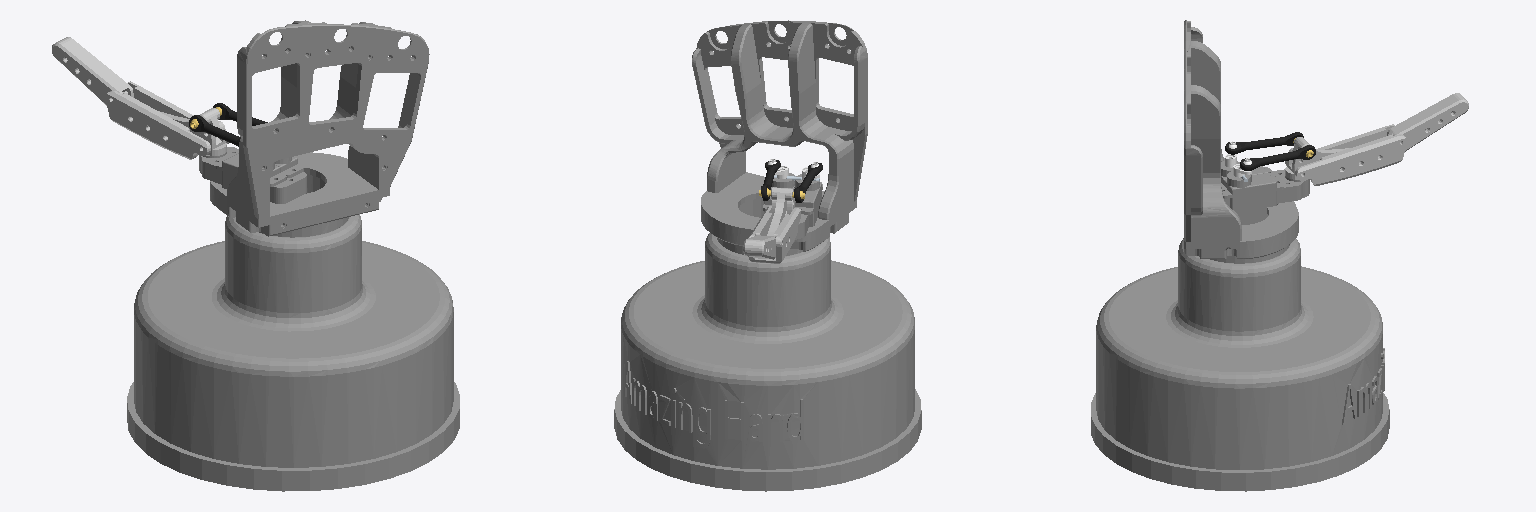
robot.urdf — Assem.SLDASM:
<?xml version="1.0" encoding="utf-8"?>
<!-- This URDF was automatically created by SolidWorks to URDF Exporter! Originally created by Stephen Brawner (brawner@gmail.com) 
     Commit Version: 1.6.0-4-g7f85cfe  Build Version: 1.6.7995.38578
     For more information, please see http://wiki.ros.org/sw_urdf_exporter -->
<robot
  name="Assem.SLDASM">
  <link
    name="base_link">
    <inertial>
      <origin
        xyz="-0.299473805099809 -1.03021940252174 0.0436095448483486"
        rpy="0 0 0" />
      <mass
        value="0.000264890102797812" />
      <inertia
        ixx="4.93000608072384E-07"
        ixy="3.95136244539639E-11"
        ixz="1.23734479882047E-10"
        iyy="5.10138574825556E-07"
        iyz="2.01408264267698E-09"
        izz="7.10918004022129E-07" />
    </inertial>
    <visual>
      <origin
        xyz="0 0 0"
        rpy="0 0 0" />
      <geometry>
        <mesh
          filename="package://Assem.SLDASM/meshes/base_link.STL" />
      </geometry>
      <material
        name="">
        <color
          rgba="0.647058823529412 0.647058823529412 0.647058823529412 1" />
      </material>
    </visual>
    <collision>
      <origin
        xyz="0 0 0"
        rpy="0 0 0" />
      <geometry>
        <mesh
          filename="package://Assem.SLDASM/meshes/base_link.STL" />
      </geometry>
    </collision>
  </link>
  <link
    name="rev1">
    <inertial>
      <origin
        xyz="1.02140518265514E-14 8.21565038222616E-15 -0.0117132506908853"
        rpy="0 0 0" />
      <mass
        value="9.01567166676995E-07" />
      <inertia
        ixx="2.98956667235181E-11"
        ixy="8.12018327301445E-23"
        ixz="8.39078673250069E-26"
        iyy="3.18763921783722E-11"
        iyz="-2.86739942424911E-25"
        izz="1.16989572197793E-11" />
    </inertial>
    <visual>
      <origin
        xyz="0 0 0"
        rpy="0 0 0" />
      <geometry>
        <mesh
          filename="package://Assem.SLDASM/meshes/rev1.STL" />
      </geometry>
      <material
        name="">
        <color
          rgba="0.8 0.8 0.8 1" />
      </material>
    </visual>
    <collision>
      <origin
        xyz="0 0 0"
        rpy="0 0 0" />
      <geometry>
        <mesh
          filename="package://Assem.SLDASM/meshes/rev1.STL" />
      </geometry>
    </collision>
  </link>
  <joint
    name="rev1"
    type="revolute">
    <origin
      xyz="-0.32335 -1.0003 0.091521"
      rpy="-3.1416 0 0.36089" />
    <parent
      link="base_link" />
    <child
      link="rev1" />
    <axis
      xyz="0 0 0" />
    <limit
      lower="0"
      upper="0"
      effort="0"
      velocity="0" />
  </joint>
  <link
    name="rev4">
    <inertial>
      <origin
        xyz="-4.99999991666611E-05 0.0202717386552188 0.00367131095180093"
        rpy="0 0 0" />
      <mass
        value="1.55937019543822E-06" />
      <inertia
        ixx="4.48994582996001E-10"
        ixy="-1.69039002988221E-20"
        ixz="-4.72429020340603E-21"
        iyy="4.75328685968633E-11"
        iyz="-1.11078422005558E-10"
        izz="4.08958550699171E-10" />
    </inertial>
    <visual>
      <origin
        xyz="0 0 0"
        rpy="0 0 0" />
      <geometry>
        <mesh
          filename="package://Assem.SLDASM/meshes/rev4.STL" />
      </geometry>
      <material
        name="">
        <color
          rgba="0.8 0.8 0.8 1" />
      </material>
    </visual>
    <collision>
      <origin
        xyz="0 0 0"
        rpy="0 0 0" />
      <geometry>
        <mesh
          filename="package://Assem.SLDASM/meshes/rev4.STL" />
      </geometry>
    </collision>
  </link>
  <joint
    name="rev4"
    type="revolute">
    <origin
      xyz="0 0 -0.0195"
      rpy="-0.12489 0 -3.1416" />
    <parent
      link="rev1" />
    <child
      link="rev4" />
    <axis
      xyz="0 0 0" />
    <limit
      lower="0"
      upper="0"
      effort="0"
      velocity="0" />
  </joint>
  <link
    name="rev6">
    <inertial>
      <origin
        xyz="-0.0275327537691696 0.103951988625078 -0.0178012843256605"
        rpy="0 0 0" />
      <mass
        value="3.56649884104221E-06" />
      <inertia
        ixx="5.18576476071431E-10"
        ixy="-1.74279394117136E-20"
        ixz="3.12946336418392E-21"
        iyy="7.03687110424854E-11"
        iyz="7.95960288090244E-11"
        izz="5.07648744356319E-10" />
    </inertial>
    <visual>
      <origin
        xyz="0 0 0"
        rpy="0 0 0" />
      <geometry>
        <mesh
          filename="package://Assem.SLDASM/meshes/rev6.STL" />
      </geometry>
      <material
        name="">
        <color
          rgba="0.8 0.8 0.8 1" />
      </material>
    </visual>
    <collision>
      <origin
        xyz="0 0 0"
        rpy="0 0 0" />
      <geometry>
        <mesh
          filename="package://Assem.SLDASM/meshes/rev6.STL" />
      </geometry>
    </collision>
  </link>
  <joint
    name="rev6"
    type="revolute">
    <origin
      xyz="0.027533 -0.032846 0.032692"
      rpy="-0.13362 0 0" />
    <parent
      link="rev4" />
    <child
      link="rev6" />
    <axis
      xyz="0 0 0" />
    <limit
      lower="0"
      upper="0"
      effort="0"
      velocity="0" />
  </joint>
  <link
    name="rev5">
    <inertial>
      <origin
        xyz="-4.99970333943667E-05 0.027095747792951 0.00319459785626131"
        rpy="0 0 0" />
      <mass
        value="6.95880846761462E-06" />
      <inertia
        ixx="1.44377728195501E-09"
        ixy="1.69680667087282E-16"
        ixz="5.03906068374767E-17"
        iyy="3.3029822726442E-10"
        iyz="3.12201862426203E-11"
        izz="1.53487846175049E-09" />
    </inertial>
    <visual>
      <origin
        xyz="0 0 0"
        rpy="0 0 0" />
      <geometry>
        <mesh
          filename="package://Assem.SLDASM/meshes/rev5.STL" />
      </geometry>
      <material
        name="">
        <color
          rgba="0.8 0.8 0.8 1" />
      </material>
    </visual>
    <collision>
      <origin
        xyz="0 0 0"
        rpy="0 0 0" />
      <geometry>
        <mesh
          filename="package://Assem.SLDASM/meshes/rev5.STL" />
      </geometry>
    </collision>
  </link>
  <joint
    name="rev5"
    type="revolute">
    <origin
      xyz="0 0 -0.0135"
      rpy="-0.12906 0 3.1416" />
    <parent
      link="rev1" />
    <child
      link="rev5" />
    <axis
      xyz="0 0 0" />
    <limit
      lower="0"
      upper="0"
      effort="0"
      velocity="0" />
  </joint>
  <link
    name="rev2">
    <inertial>
      <origin
        xyz="0.00215952472968417 0.00151211549413738 -0.00416811876256325"
        rpy="0 0 0" />
      <mass
        value="1.48459705980827E-07" />
      <inertia
        ixx="6.64492349805132E-13"
        ixy="-1.72913669703106E-13"
        ixz="6.52669975612066E-14"
        iyy="7.90363207673246E-13"
        iyz="4.57004436726837E-14"
        izz="1.03644045593312E-12" />
    </inertial>
    <visual>
      <origin
        xyz="0 0 0"
        rpy="0 0 0" />
      <geometry>
        <mesh
          filename="package://Assem.SLDASM/meshes/rev2.STL" />
      </geometry>
      <material
        name="">
        <color
          rgba="1 1 1 1" />
      </material>
    </visual>
    <collision>
      <origin
        xyz="0 0 0"
        rpy="0 0 0" />
      <geometry>
        <mesh
          filename="package://Assem.SLDASM/meshes/rev2.STL" />
      </geometry>
    </collision>
  </link>
  <joint
    name="rev2"
    type="revolute">
    <origin
      xyz="-0.30659 -1.0286 0.10917"
      rpy="-3.1416 0 1.5539" />
    <parent
      link="base_link" />
    <child
      link="rev2" />
    <axis
      xyz="0 0 0" />
    <limit
      lower="0"
      upper="0"
      effort="0"
      velocity="0" />
  </joint>
  <link
    name="ball1">
    <inertial>
      <origin
        xyz="0.00287012797629305 0.0198118955548476 0.00023317575277651"
        rpy="0 0 0" />
      <mass
        value="4.11495169264791E-07" />
      <inertia
        ixx="1.11963176460428E-11"
        ixy="-6.23376208857966E-13"
        ixz="1.63127880509559E-15"
        iyy="1.44015139319813E-12"
        iyz="2.4934692075138E-14"
        izz="1.12359214876911E-11" />
    </inertial>
    <visual>
      <origin
        xyz="0 0 0"
        rpy="0 0 0" />
      <geometry>
        <mesh
          filename="package://Assem.SLDASM/meshes/ball1.STL" />
      </geometry>
      <material
        name="">
        <color
          rgba="0.192156862745098 0.192156862745098 0.192156862745098 1" />
      </material>
    </visual>
    <collision>
      <origin
        xyz="0 0 0"
        rpy="0 0 0" />
      <geometry>
        <mesh
          filename="package://Assem.SLDASM/meshes/ball1.STL" />
      </geometry>
    </collision>
  </link>
  <joint
    name="ball1"
    type="revolute">
    <origin
      xyz="4.9577E-05 0.0029362 -0.0069"
      rpy="-3.1092 -0.20942 1.071" />
    <parent
      link="rev2" />
    <child
      link="ball1" />
    <axis
      xyz="0 0 0" />
    <limit
      lower="0"
      upper="0"
      effort="0"
      velocity="0" />
  </joint>
  <link
    name="ball3">
    <inertial>
      <origin
        xyz="-0.0173869935500136 0.00567692239340628 -0.0265999999999947"
        rpy="0 0 0" />
      <mass
        value="5.47122318133314E-08" />
      <inertia
        ixx="1.6232606031193E-13"
        ixy="6.31088724176809E-30"
        ixz="1.35999620060102E-26"
        iyy="1.6232606031193E-13"
        iyz="1.26154635962944E-26"
        izz="1.62708880327974E-13" />
    </inertial>
    <visual>
      <origin
        xyz="0 0 0"
        rpy="0 0 0" />
      <geometry>
        <mesh
          filename="package://Assem.SLDASM/meshes/ball3.STL" />
      </geometry>
      <material
        name="">
        <color
          rgba="0.956862745098039 0.835294117647059 0.470588235294118 1" />
      </material>
    </visual>
    <collision>
      <origin
        xyz="0 0 0"
        rpy="0 0 0" />
      <geometry>
        <mesh
          filename="package://Assem.SLDASM/meshes/ball3.STL" />
      </geometry>
    </collision>
  </link>
  <joint
    name="ball3"
    type="revolute">
    <origin
      xyz="0.034109 0.04124 -0.0099321"
      rpy="1.283 0.73685 1.2566" />
    <parent
      link="ball1" />
    <child
      link="ball3" />
    <axis
      xyz="0 0 0" />
    <limit
      lower="0"
      upper="0"
      effort="0"
      velocity="0" />
  </joint>
  <link
    name="rod">
    <inertial>
      <origin
        xyz="-0.0275327537729319 0.0386101998079315 -0.0266838319230719"
        rpy="0 0 0" />
      <mass
        value="7.85398163397449E-08" />
      <inertia
        ixx="3.92699081698728E-14"
        ixy="7.72068490184749E-23"
        ixz="1.64994603372841E-22"
        iyy="4.11025038844665E-12"
        iyz="-2.01948391736579E-28"
        izz="4.11025038844665E-12" />
    </inertial>
    <visual>
      <origin
        xyz="0 0 0"
        rpy="0 0 0" />
      <geometry>
        <mesh
          filename="package://Assem.SLDASM/meshes/rod.STL" />
      </geometry>
      <material
        name="">
        <color
          rgba="0.811764705882353 0.858823529411765 0.898039215686275 1" />
      </material>
    </visual>
    <collision>
      <origin
        xyz="0 0 0"
        rpy="0 0 0" />
      <geometry>
        <mesh
          filename="package://Assem.SLDASM/meshes/rod.STL" />
      </geometry>
    </collision>
  </link>
  <joint
    name="rod"
    type="fixed">
    <origin
      xyz="0.0084803 -0.033485 -0.0070672"
      rpy="1.9531 -1.5708 0" />
    <parent
      link="ball3" />
    <child
      link="rod" />
    <axis
      xyz="0 0 0" />
  </joint>
  <link
    name="rev3">
    <inertial>
      <origin
        xyz="-0.00215952472948366 0.00151211549443775 -0.00416811876256649"
        rpy="0 0 0" />
      <mass
        value="1.48459705980828E-07" />
      <inertia
        ixx="6.64492349852074E-13"
        ixy="1.72913669720197E-13"
        ixz="-6.52669975550009E-14"
        iyy="7.90363207626325E-13"
        iyz="4.57004436815349E-14"
        izz="1.03644045593314E-12" />
    </inertial>
    <visual>
      <origin
        xyz="0 0 0"
        rpy="0 0 0" />
      <geometry>
        <mesh
          filename="package://Assem.SLDASM/meshes/rev3.STL" />
      </geometry>
      <material
        name="">
        <color
          rgba="1 1 1 1" />
      </material>
    </visual>
    <collision>
      <origin
        xyz="0 0 0"
        rpy="0 0 0" />
      <geometry>
        <mesh
          filename="package://Assem.SLDASM/meshes/rev3.STL" />
      </geometry>
    </collision>
  </link>
  <joint
    name="rev3"
    type="revolute">
    <origin
      xyz="-0.31796 -1.0328 0.10917"
      rpy="-3.1416 0 -0.81292" />
    <parent
      link="base_link" />
    <child
      link="rev3" />
    <axis
      xyz="0 0 0" />
    <limit
      lower="0"
      upper="0"
      effort="0"
      velocity="0" />
  </joint>
  <link
    name="ball2">
    <inertial>
      <origin
        xyz="0.00136377598111947 0.0171626142526585 1.16855409628067E-05"
        rpy="0 0 0" />
      <mass
        value="4.11495145300424E-07" />
      <inertia
        ixx="1.11963205310469E-11"
        ixy="-6.23379802742519E-13"
        ixz="1.63136450625947E-15"
        iyy="1.44014992212714E-12"
        iyz="2.49366181372944E-14"
        izz="1.12359251627596E-11" />
    </inertial>
    <visual>
      <origin
        xyz="0 0 0"
        rpy="0 0 0" />
      <geometry>
        <mesh
          filename="package://Assem.SLDASM/meshes/ball2.STL" />
      </geometry>
      <material
        name="">
        <color
          rgba="0.192156862745098 0.192156862745098 0.192156862745098 1" />
      </material>
    </visual>
    <collision>
      <origin
        xyz="0 0 0"
        rpy="0 0 0" />
      <geometry>
        <mesh
          filename="package://Assem.SLDASM/meshes/ball2.STL" />
      </geometry>
    </collision>
  </link>
  <joint
    name="ball2"
    type="revolute">
    <origin
      xyz="-0.003367 0.0035576 -0.0069"
      rpy="-3.1059 -0.25539 -1.1617" />
    <parent
      link="rev3" />
    <child
      link="ball2" />
    <axis
      xyz="0 0 0" />
    <limit
      lower="0"
      upper="0"
      effort="0"
      velocity="0" />
  </joint>
  <link
    name="ball4">
    <inertial>
      <origin
        xyz="-0.0194827537721388 0.0386101998081073 -0.026683831922011"
        rpy="0 0 0" />
      <mass
        value="5.47122318133324E-08" />
      <inertia
        ixx="1.62708880327977E-13"
        ixy="1.91495984742401E-28"
        ixz="-1.67743382886196E-26"
        iyy="1.62326060311933E-13"
        iyz="-9.86076131526265E-31"
        izz="1.62326060311933E-13" />
    </inertial>
    <visual>
      <origin
        xyz="0 0 0"
        rpy="0 0 0" />
      <geometry>
        <mesh
          filename="package://Assem.SLDASM/meshes/ball4.STL" />
      </geometry>
      <material
        name="">
        <color
          rgba="0.956862745098039 0.835294117647059 0.470588235294118 1" />
      </material>
    </visual>
    <collision>
      <origin
        xyz="0 0 0"
        rpy="0 0 0" />
      <geometry>
        <mesh
          filename="package://Assem.SLDASM/meshes/ball4.STL" />
      </geometry>
    </collision>
  </link>
  <joint
    name="ball4"
    type="revolute">
    <origin
      xyz="0.031242 0.0053796 -0.031114"
      rpy="1.5196 -0.25476 0.02183" />
    <parent
      link="ball2" />
    <child
      link="ball4" />
    <axis
      xyz="0 0 0" />
    <limit
      lower="0"
      upper="0"
      effort="0"
      velocity="0" />
  </joint>
</robot>

--- What the picture shows (computed from the rendered views, not written in the file) ---
Views: 3 orthographic renders of the robot side by side, from view 1: azimuth 30°, elevation 25°; view 2: azimuth 150°, elevation 25°; view 3: azimuth 270°, elevation 25°.
Robot: Assem.SLDASM — 12 links, 11 joints (10 revolute, 1 fixed); root link base_link; default pose: all joints at 0.
Visible links, largest first — view 1: base_link, rev5, rev6; view 2: base_link, rev5, rev6, rev4; view 3: base_link, rev5, rev6, ball1, ball2.
Link boxes in pixels (box(x1,y1,x2,y2)): base_link: box(127, 20, 459, 491); rev5: box(105, 81, 228, 159); rev6: box(52, 37, 133, 105); base_link: box(614, 20, 921, 491); rev5: box(748, 206, 800, 263); rev6: box(743, 235, 775, 259); rev4: box(767, 187, 793, 235); base_link: box(1091, 20, 1389, 491); rev5: box(1285, 124, 1406, 185); rev6: box(1387, 93, 1468, 151); ball1: box(1240, 145, 1315, 170); ball2: box(1225, 132, 1303, 154).
Bounding box of the posed robot: 0.1459 × 0.1846 × 0.206 m (x, y, z).
12 mesh visuals loaded from 12 distinct referenced files (12 binary STL).
